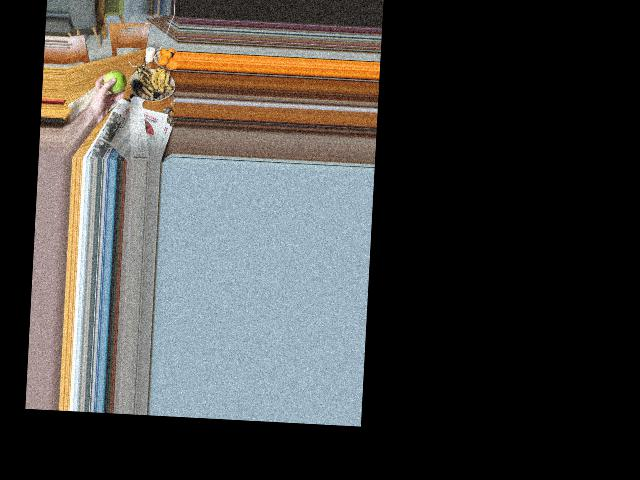apple: (105, 68, 127, 96)
